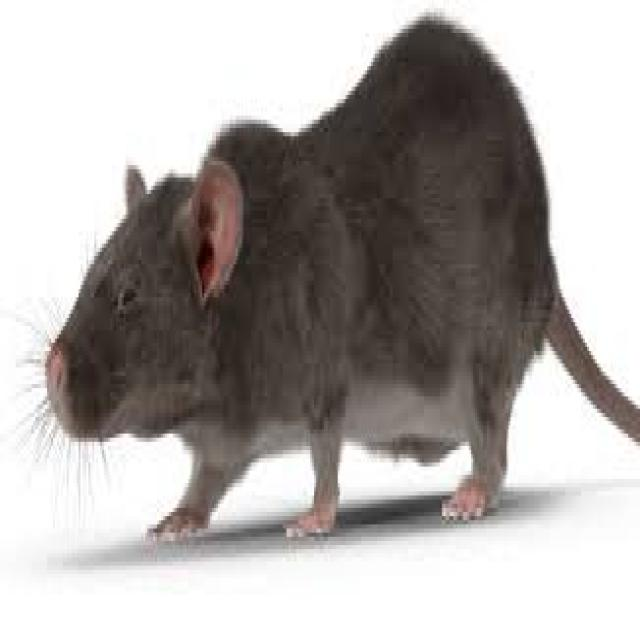rat: (18, 17, 638, 533)
